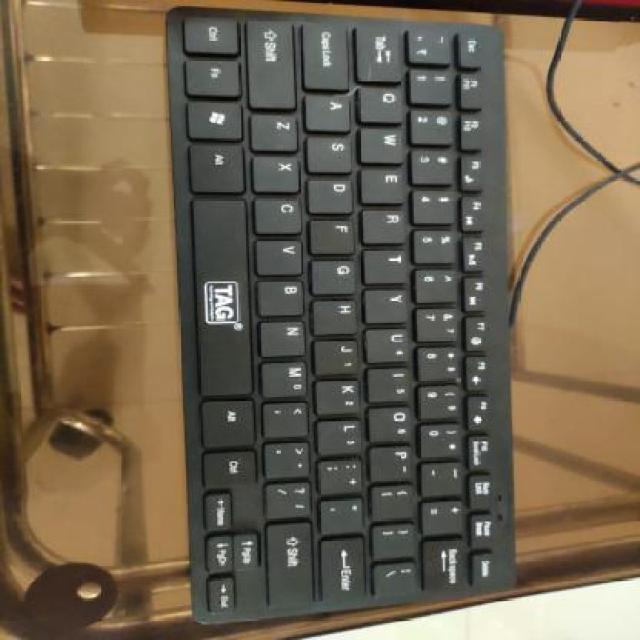keyboard: (161, 4, 524, 629)
